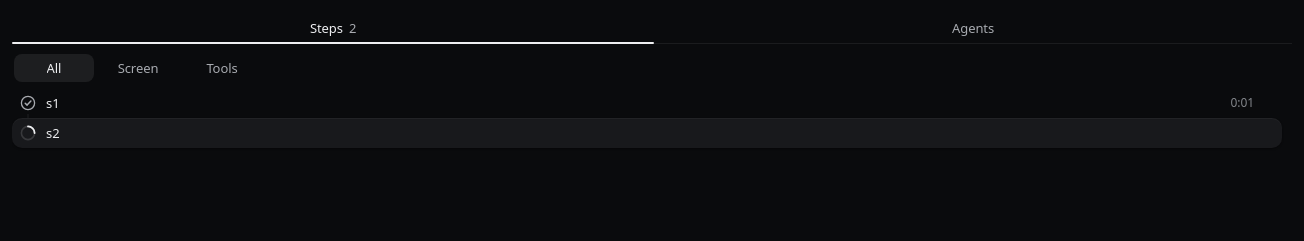
Test: ActivityRail › marks the live step and folds allowed key uses into the steps they follow
Step 1. Click the button "s1 0:01" → [28, 103], box [12,88,1282,118]
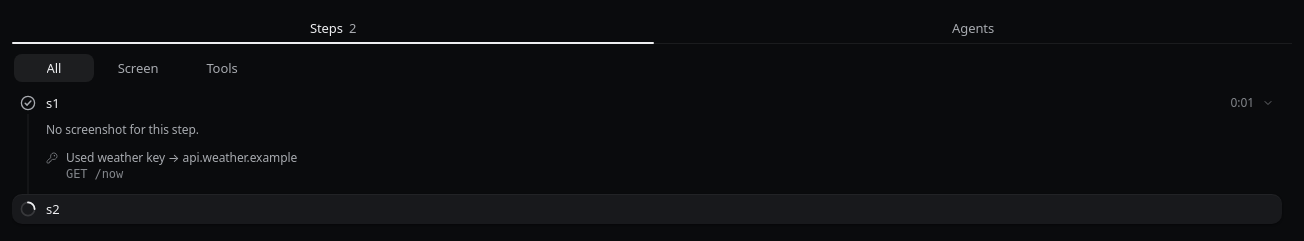
Expected: the list named "Keys used" shows "Used weather key → api.weather.example", [66,149,297,166]
